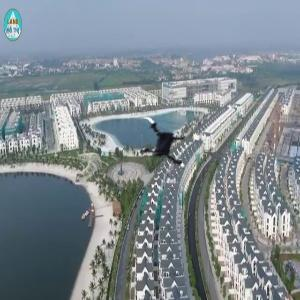drone: (126, 110, 201, 185)
